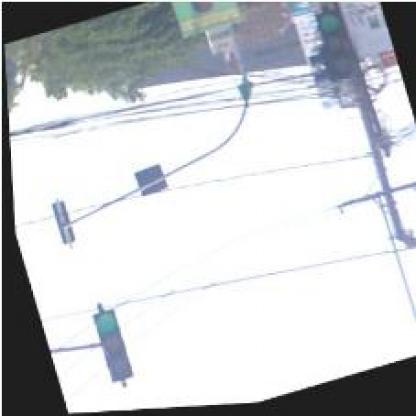green: (314, 8, 358, 87), (86, 308, 130, 385)
